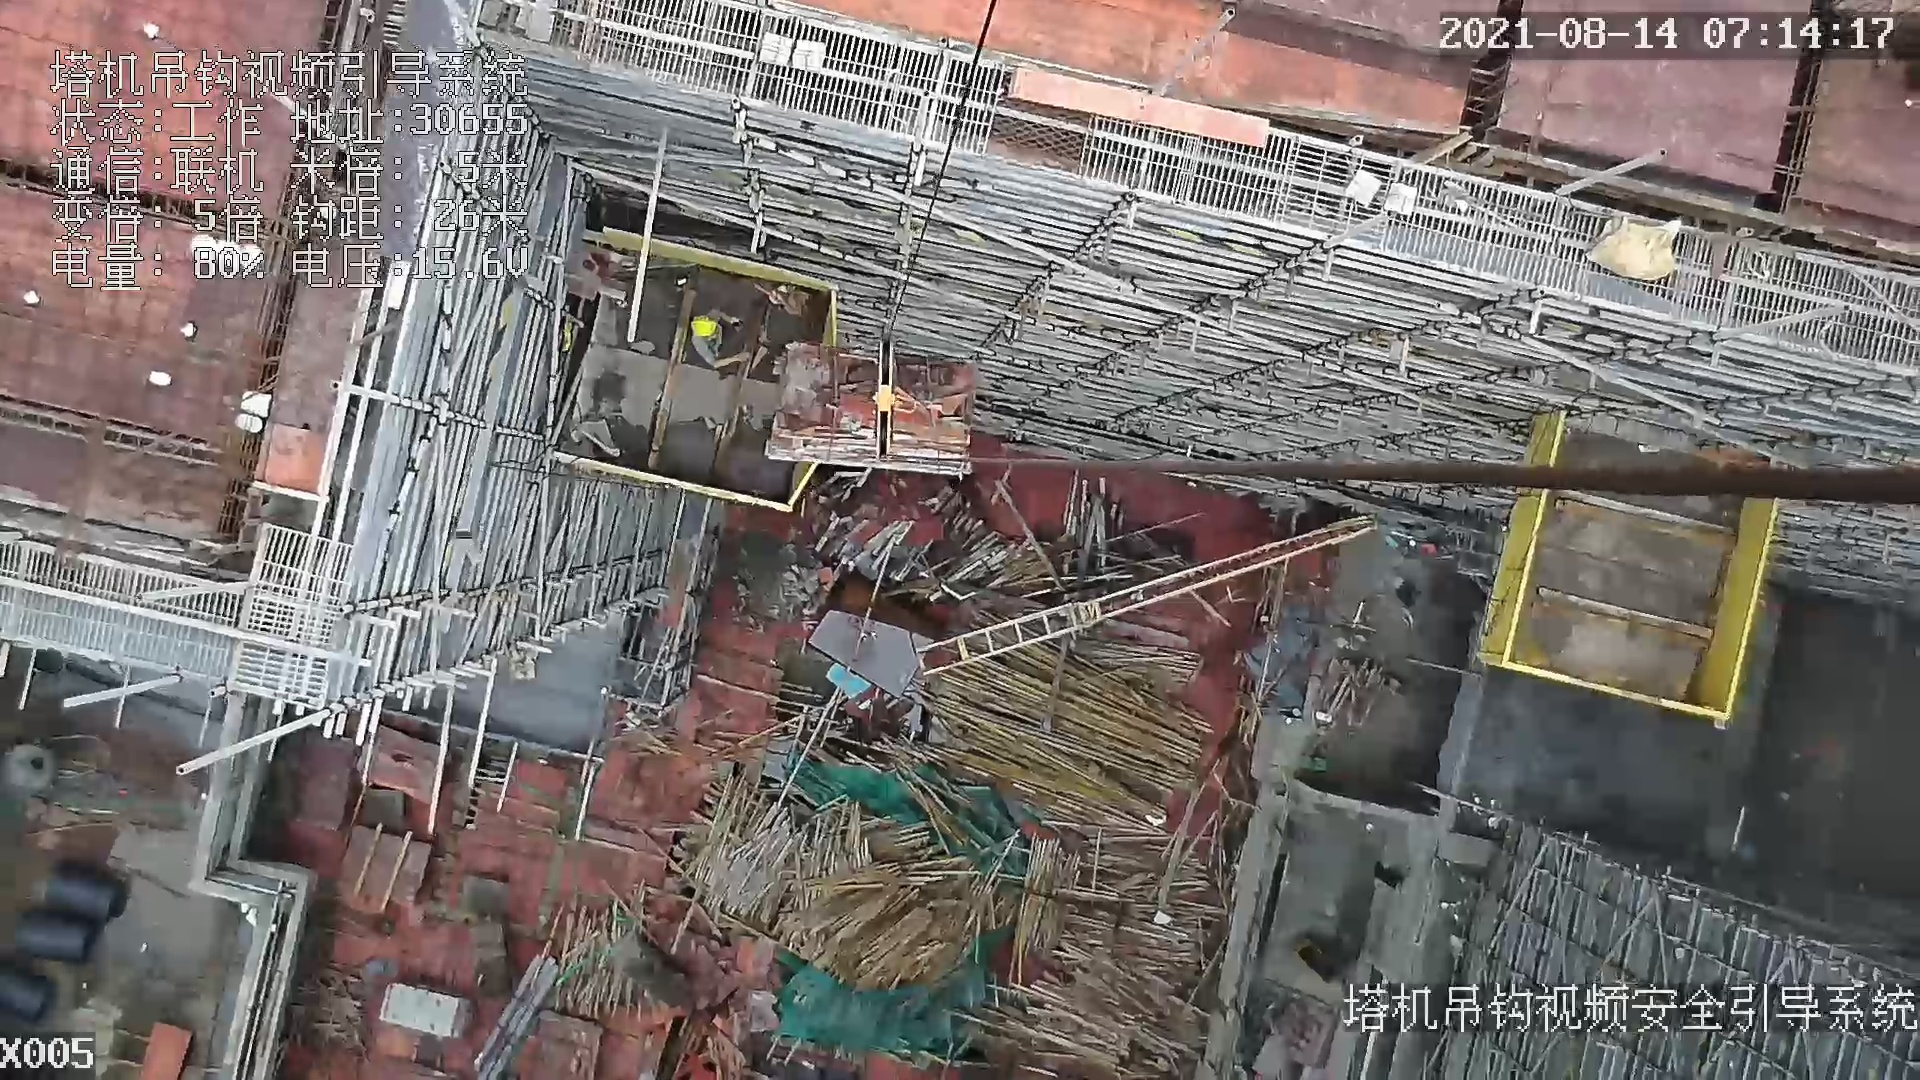helmet: (689, 311, 719, 342)
hook: (872, 335, 920, 464)
person: (685, 304, 758, 369)
